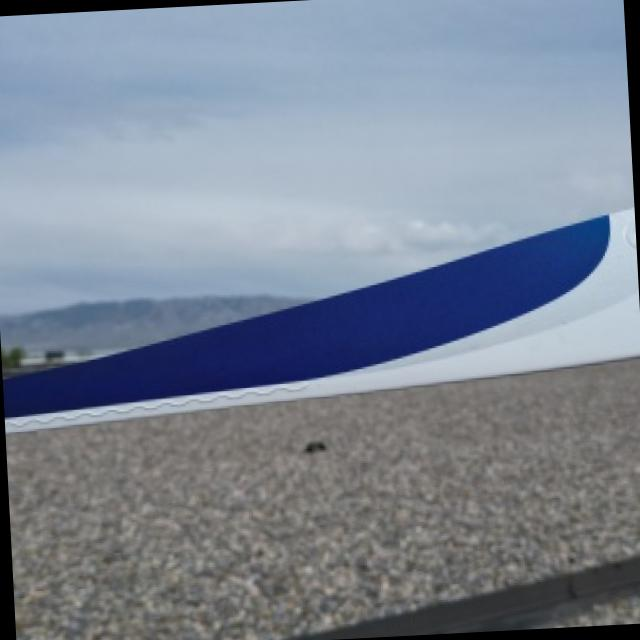healthy: (5, 205, 640, 430)
